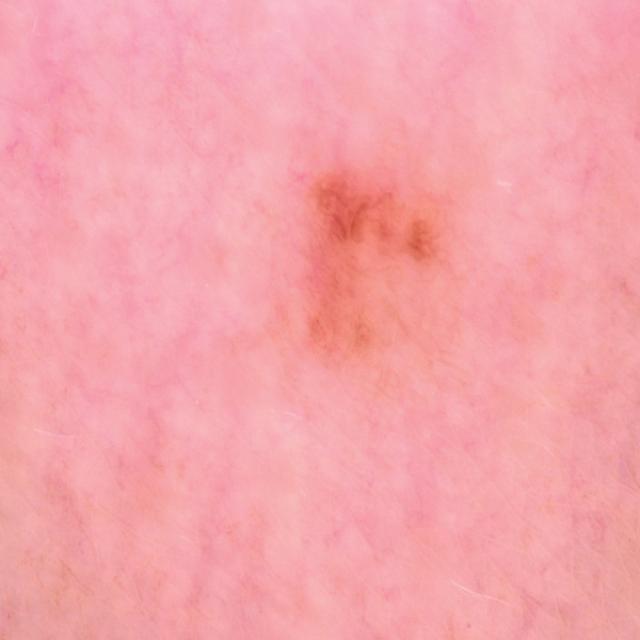NV: (283, 155, 466, 397)
